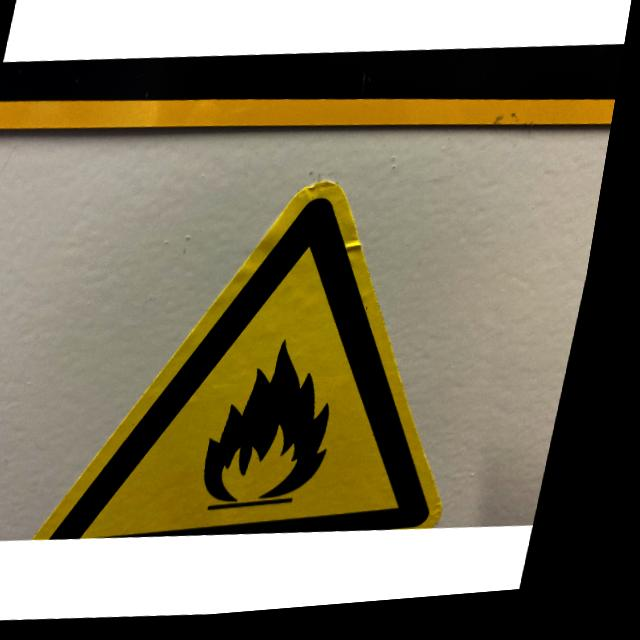fire hazard: (48, 166, 524, 563)
